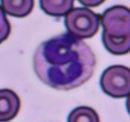N: (32, 32, 94, 88)
